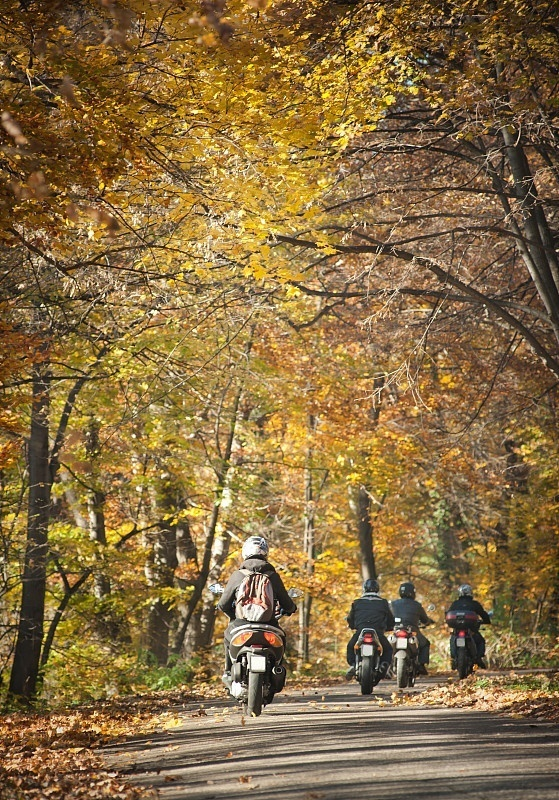non-vehicle: (221, 615, 289, 713), (445, 616, 492, 675), (347, 629, 394, 688), (388, 625, 427, 686)
